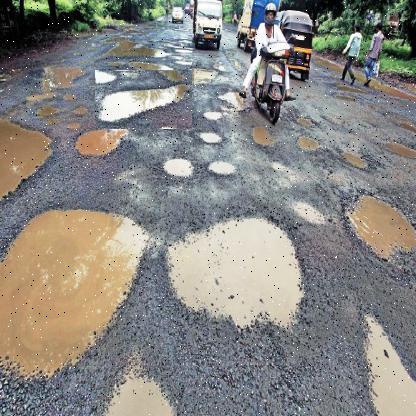pothole_water: (1, 185, 160, 385), (158, 201, 314, 334), (94, 70, 192, 130)
